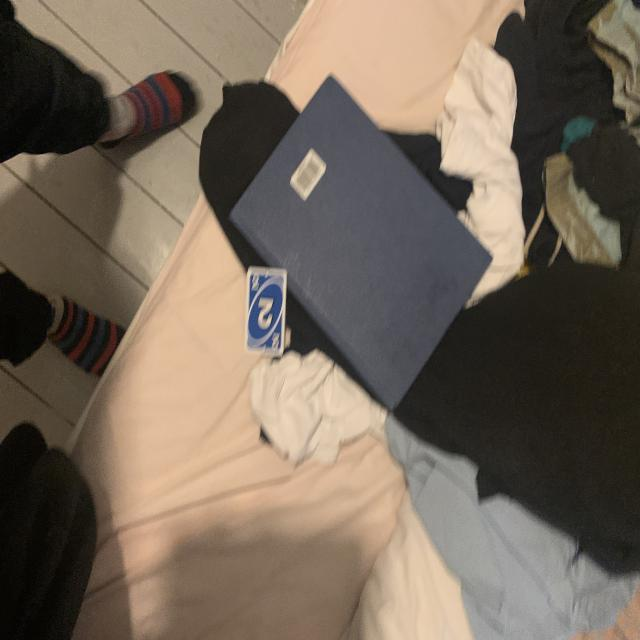lblue-2: (250, 272, 262, 294)
